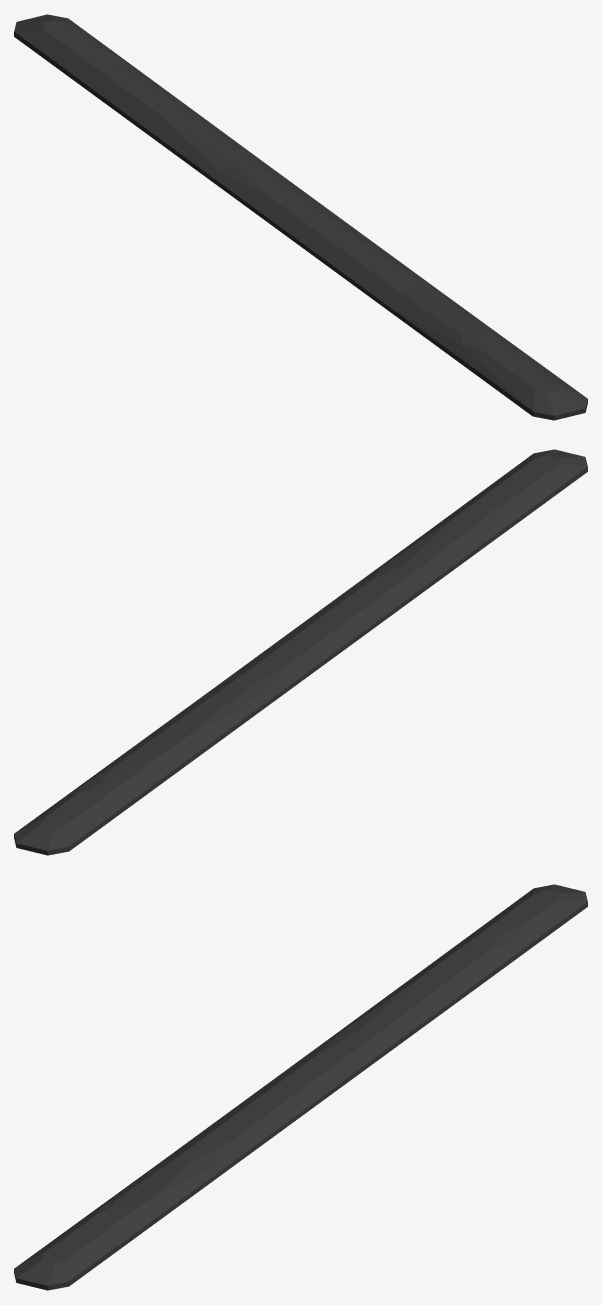
Rendered from SM_Env_Road_SpeedBump_02.fbx.
The picture shows the model from 3 angles, top to bottom: view 1: azimuth 30°, elevation 25°; view 2: azimuth 150°, elevation 25°; view 3: azimuth 330°, elevation 25°; orthographic projection.
Parts seen in each view (by area): view 1: SM_Env_Road_SpeedBump_02; view 2: SM_Env_Road_SpeedBump_02; view 3: SM_Env_Road_SpeedBump_02.
Boxes of the visible parts, x1=… form: SM_Env_Road_SpeedBump_02: x1=14, y1=14, x2=587, y2=420; SM_Env_Road_SpeedBump_02: x1=14, y1=449, x2=587, y2=855; SM_Env_Road_SpeedBump_02: x1=14, y1=884, x2=587, y2=1290.
Bounding box in the file's own units: 52.48 × 12.27 × 887.
